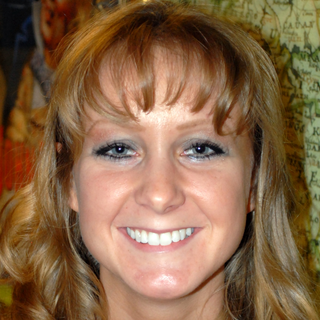eye: (179, 138, 228, 164), (92, 139, 141, 165)
